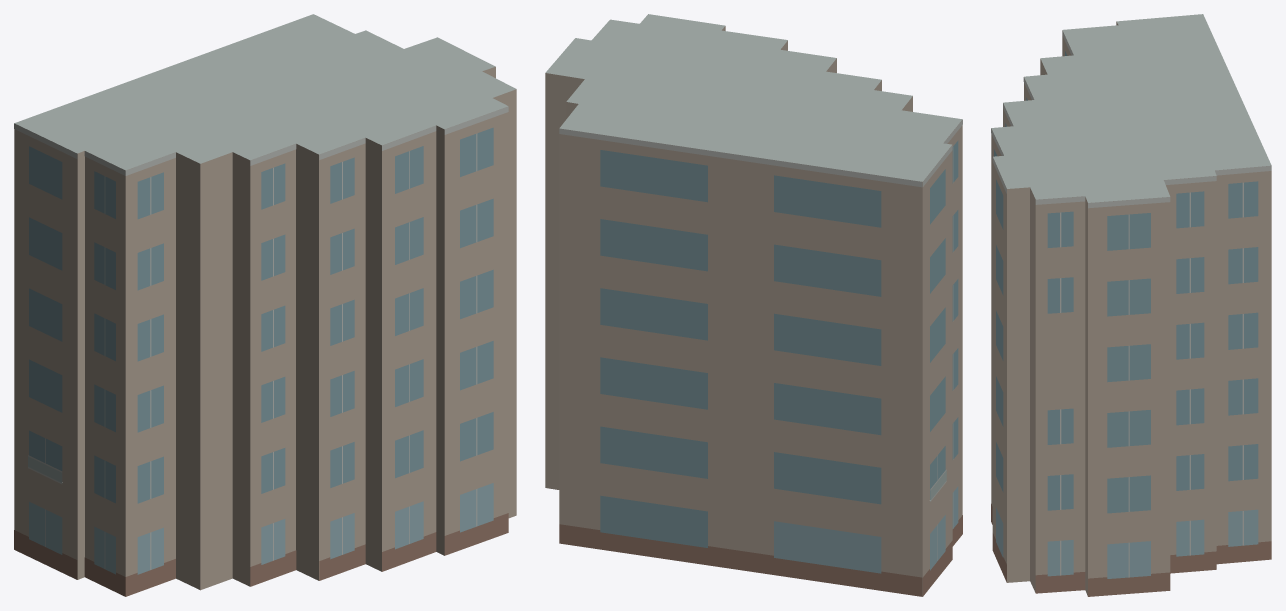
Rendered from survey-upis-32871100.glb.
3 views of the same model, side by side, from view 1: azimuth 30°, elevation 25°; view 2: azimuth 150°, elevation 25°; view 3: azimuth 270°, elevation 25° (orthographic). The views are drawn at different scales.
Visible parts, largest first — view 1: survey-upis-32871100.tmp; view 2: survey-upis-32871100.tmp; view 3: survey-upis-32871100.tmp.
Part boxes in pixels (left/top/right/bottom): survey-upis-32871100.tmp: left=14, top=14, right=516, bottom=596; survey-upis-32871100.tmp: left=545, top=14, right=962, bottom=596; survey-upis-32871100.tmp: left=991, top=14, right=1271, bottom=596.
Size of the model in its own units: 18.84 by 18.3 by 11.82.
